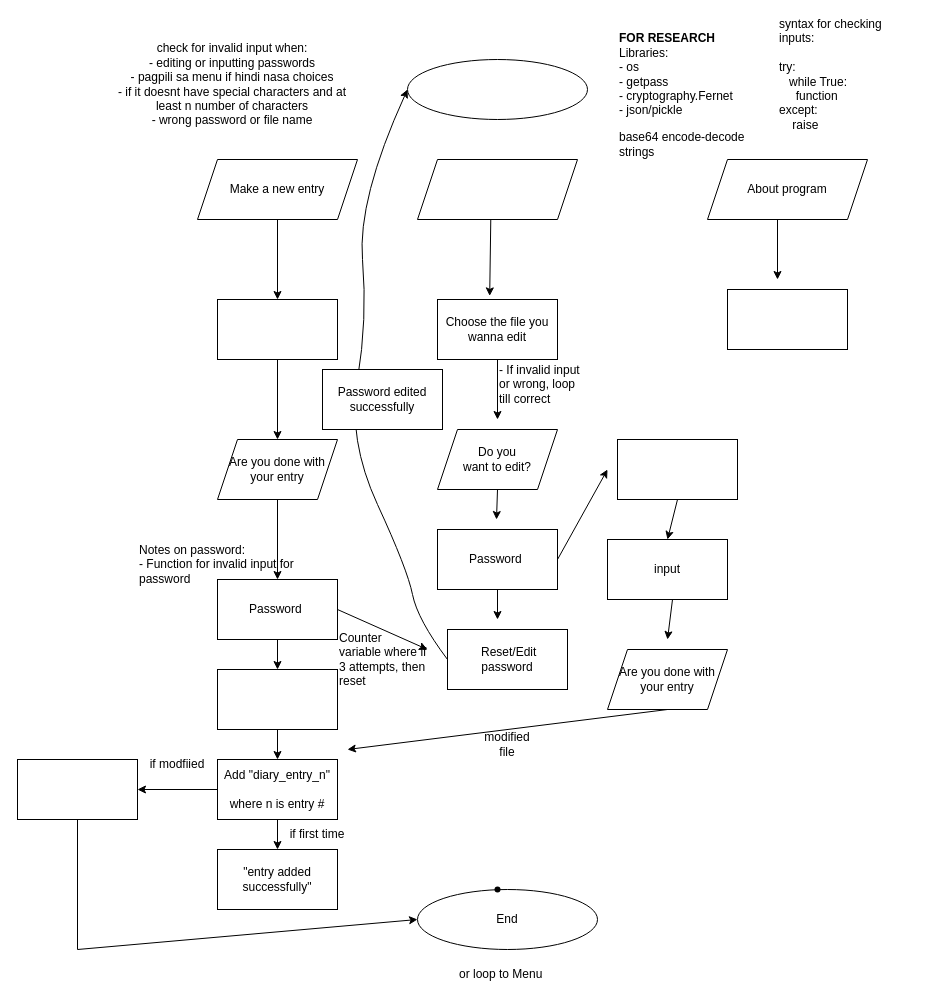
The diagram is 925 pixels wide and 1007 high, and some of its shapes have lost their labels. The box of each missing label's shape, as (x1, y1, x2, y2) in pixels:
"Diary entry edited successfully": (16, 758, 138, 820)
"This was created by Group 5": (726, 288, 848, 350)
Edit file.: (616, 438, 738, 500)
Input ng user: (216, 298, 338, 360)
Menu: (406, 58, 588, 120)
Turn file to cyrptography: (216, 668, 338, 730)
View/Edit: (416, 158, 578, 220)
